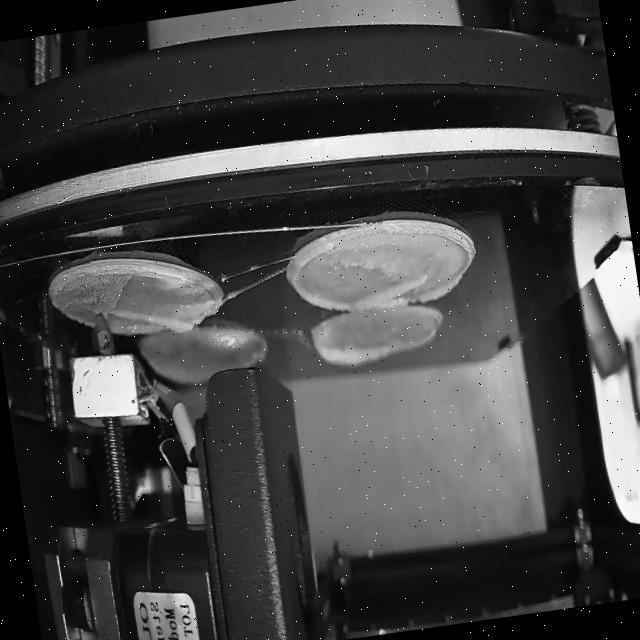over_extrusion: (288, 239, 354, 322), (352, 266, 464, 313), (311, 319, 392, 376), (116, 306, 192, 342)
